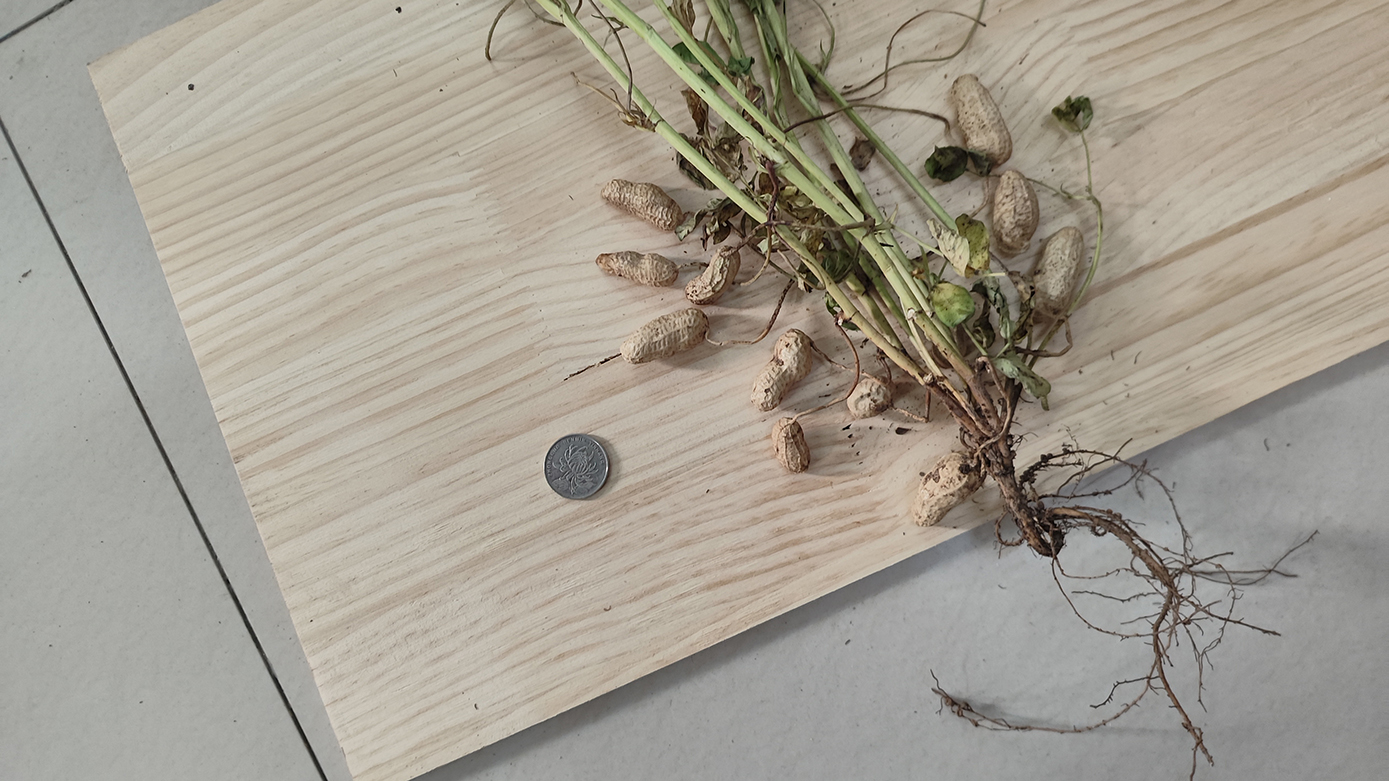h: (952, 74, 1013, 166), (751, 329, 812, 410), (620, 308, 709, 363), (600, 178, 684, 232), (1034, 229, 1084, 311), (992, 170, 1040, 251), (684, 245, 743, 301), (596, 251, 677, 287), (845, 374, 897, 417), (772, 417, 810, 471)
